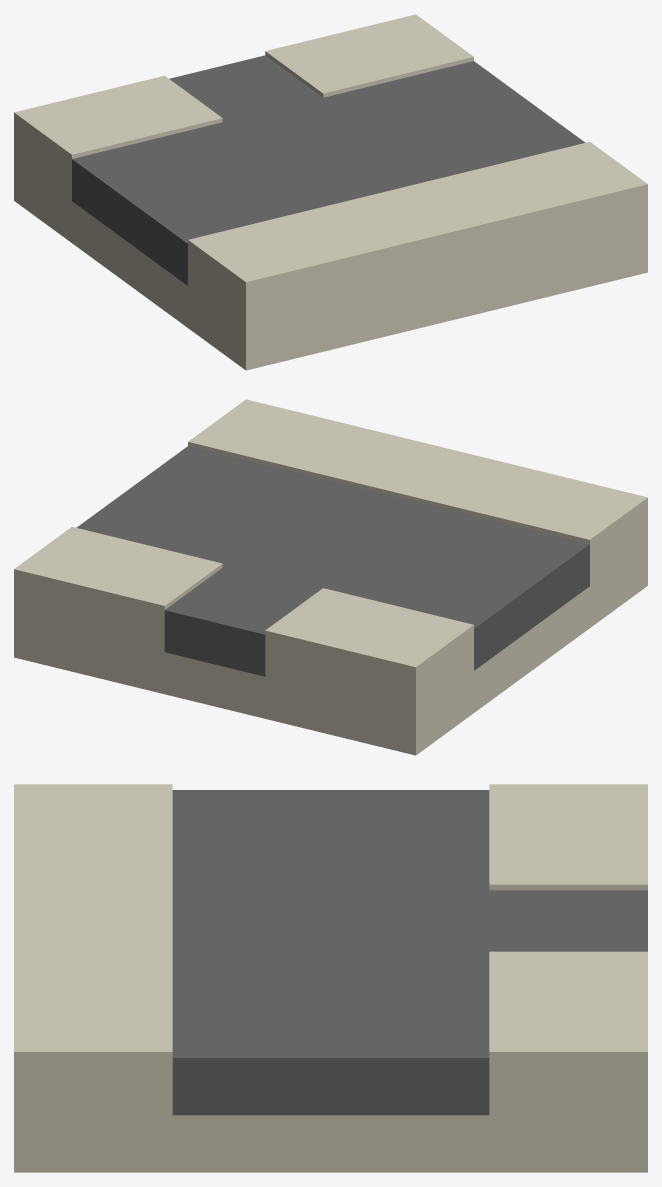
File: tile003.fbx
3 renders of one model, top to bottom at view 1: azimuth 30°, elevation 25°; view 2: azimuth 150°, elevation 25°; view 3: azimuth 270°, elevation 25°, orthographic. The views are drawn at different scales.
Parts seen in each view (by area): view 1: tile003; view 2: tile003; view 3: tile003.
Boxes of the visible parts, <box> form: tile003: <box>14,14,647,370</box>; tile003: <box>14,399,647,755</box>; tile003: <box>14,784,647,1172</box>.
Bounding box in the file's own units: 10 × 2.1 × 10.
